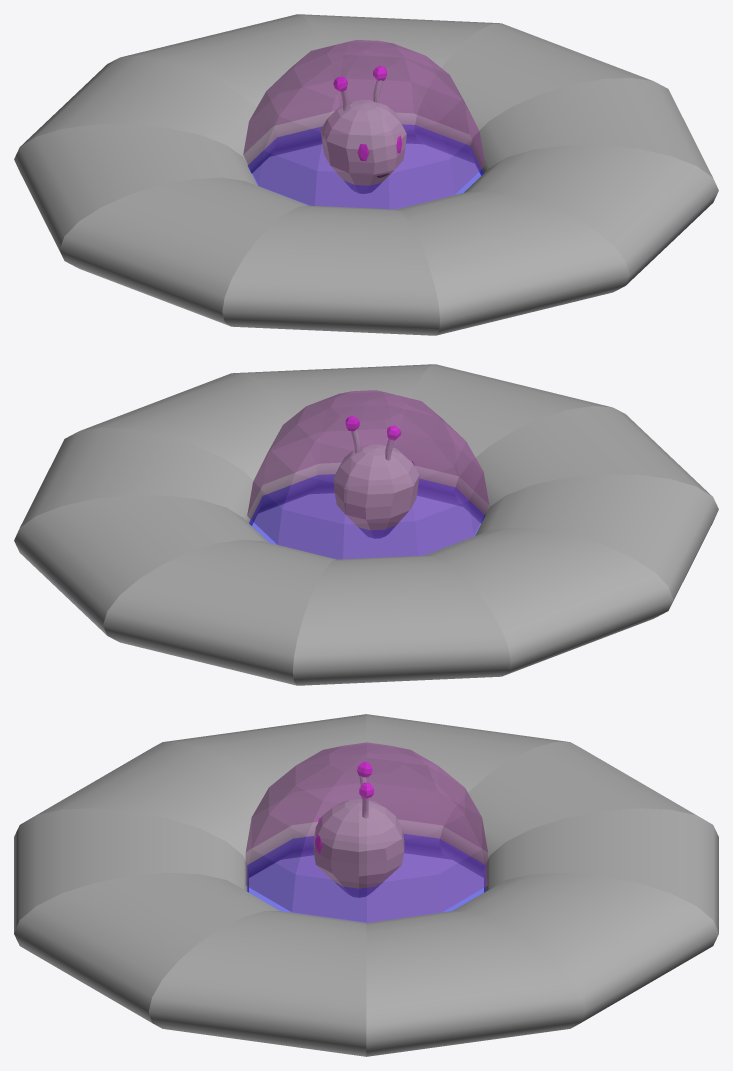
File: extraterrestre.fbx
The picture shows the model from 3 angles, top to bottom: view 1: azimuth 30°, elevation 25°; view 2: azimuth 150°, elevation 25°; view 3: azimuth 270°, elevation 25°; orthographic projection. The views are drawn at different scales.
Parts seen in each view (by area): view 1: pCylinder5; view 2: pCylinder5; view 3: pCylinder5.
Boxes of the visible parts, <box> form: pCylinder5: <box>14,14,718,335</box>; pCylinder5: <box>14,364,718,685</box>; pCylinder5: <box>14,714,718,1056</box>.
Bounding box in the file's own units: 15.57 × 4.01 × 14.81.
